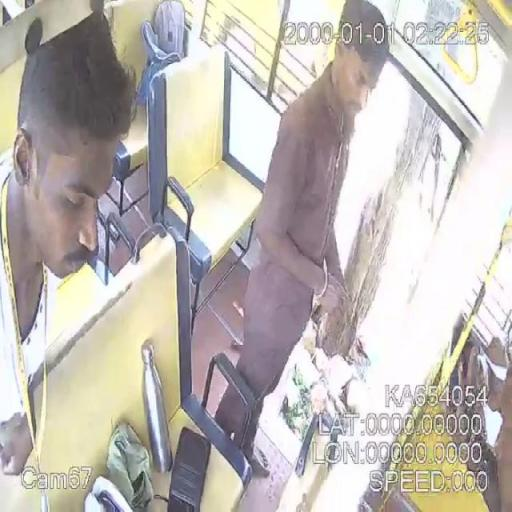persona: (212, 0, 390, 474), (0, 7, 138, 478), (457, 323, 512, 464)
